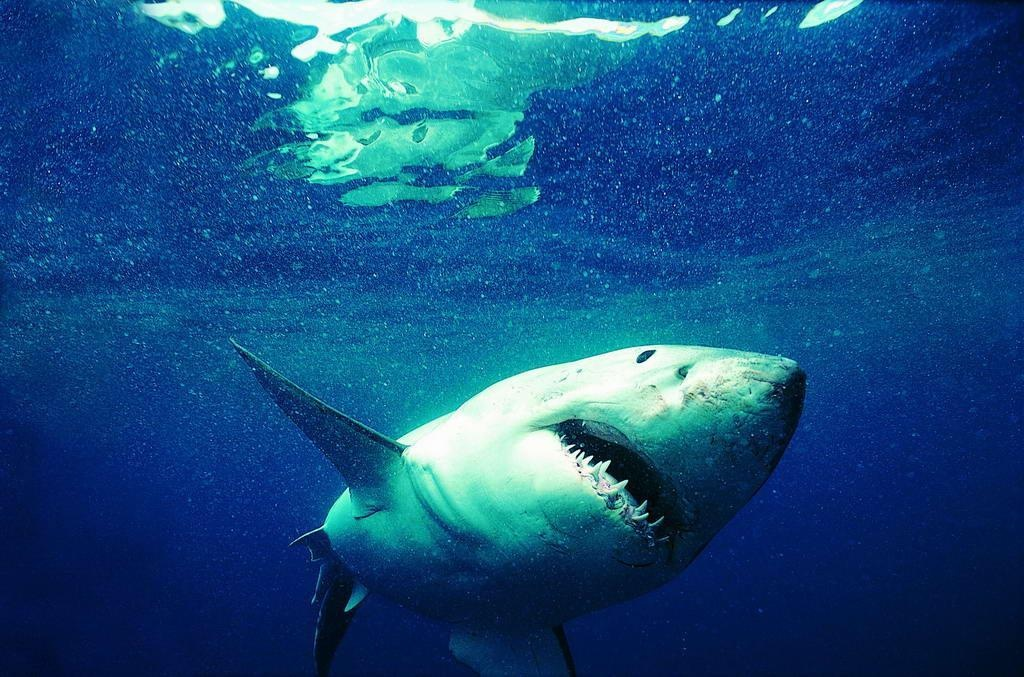fish: (228, 297, 806, 669)
